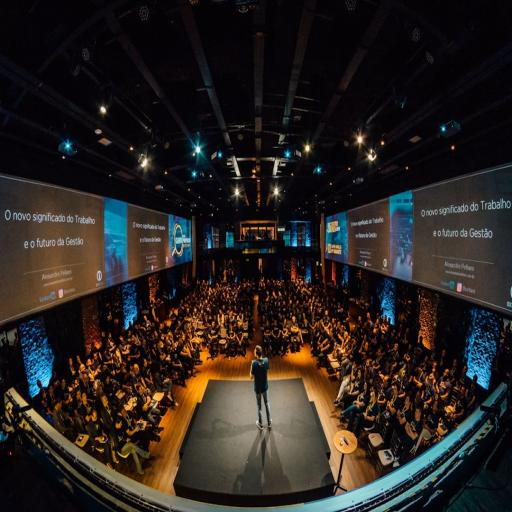face: (408, 344, 420, 355), (106, 335, 114, 350), (353, 362, 360, 376), (115, 415, 122, 428), (120, 407, 128, 418), (415, 408, 421, 420), (77, 389, 82, 403), (101, 395, 107, 406), (55, 401, 62, 410), (171, 340, 178, 349), (433, 401, 438, 413), (460, 386, 466, 396), (405, 395, 410, 407), (92, 410, 97, 421), (472, 375, 478, 384), (344, 331, 350, 340), (82, 394, 87, 404), (384, 376, 389, 386), (121, 362, 126, 372), (402, 366, 407, 376), (375, 318, 379, 330), (452, 358, 458, 366), (137, 387, 143, 395), (416, 391, 421, 400), (105, 375, 110, 384), (42, 399, 47, 408), (391, 330, 396, 339), (134, 365, 139, 374), (392, 385, 397, 393), (463, 365, 468, 373), (76, 355, 81, 363), (358, 369, 362, 379), (127, 336, 132, 344), (371, 391, 375, 401), (37, 380, 42, 388), (119, 336, 124, 344), (424, 355, 428, 364), (181, 333, 185, 342), (429, 374, 433, 383), (127, 330, 131, 339), (159, 339, 163, 348), (420, 367, 425, 374), (80, 365, 85, 372), (143, 360, 148, 367), (441, 349, 446, 356), (433, 362, 437, 370), (377, 348, 381, 356), (69, 358, 73, 366), (94, 352, 98, 360), (61, 380, 65, 388), (364, 382, 367, 392), (366, 360, 370, 367), (506, 325, 510, 332), (394, 344, 398, 351), (337, 321, 341, 328), (444, 370, 448, 377), (109, 333, 112, 342), (212, 321, 216, 327), (87, 359, 91, 365), (283, 319, 286, 327), (367, 313, 370, 320), (308, 300, 311, 307), (222, 305, 225, 312), (194, 308, 197, 314), (289, 299, 292, 305), (346, 318, 349, 324), (293, 316, 296, 322), (383, 316, 386, 322), (406, 328, 409, 334), (143, 316, 146, 322), (358, 316, 361, 322), (325, 311, 328, 316), (274, 320, 277, 325), (266, 320, 269, 325), (364, 335, 367, 340), (296, 300, 299, 305), (255, 350, 257, 357), (400, 323, 402, 330), (187, 308, 189, 314)
